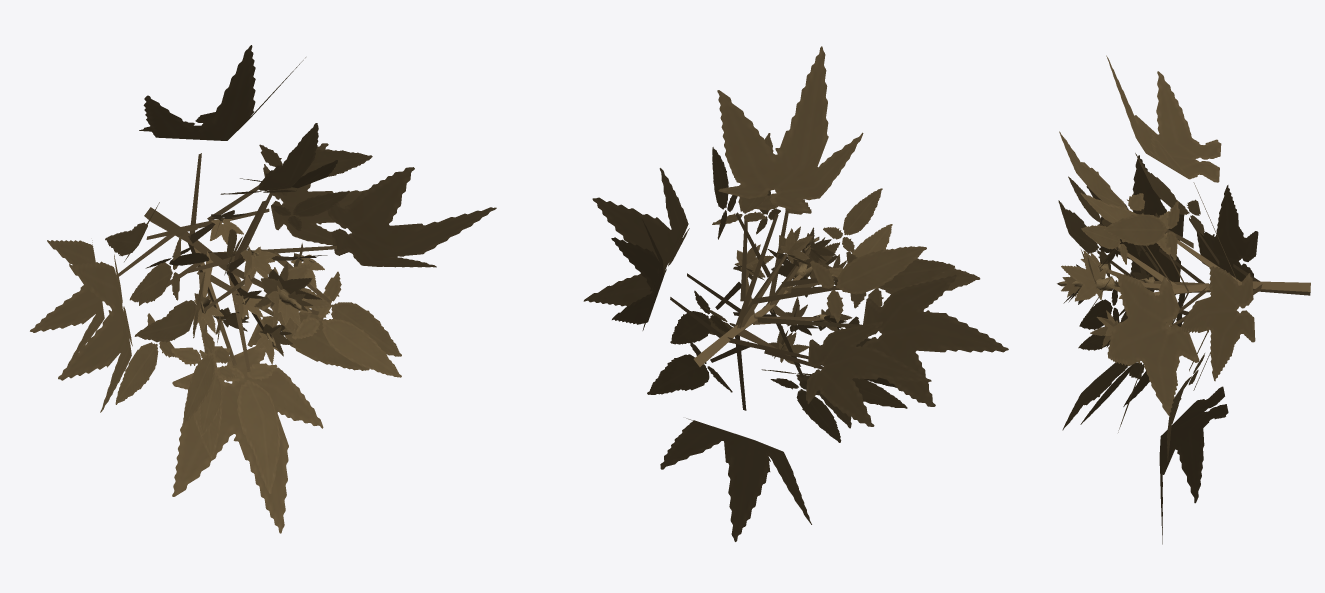
Rendered from p_auto_preflower_c3_cards.obj.
3 renders of one model, left to right at view 1: azimuth 30°, elevation 25°; view 2: azimuth 150°, elevation 25°; view 3: azimuth 270°, elevation 25°, orthographic. The views are drawn at different scales.
Size of the model in its own units: 1.39 by 1.49 by 0.706.
1 material, 1 textured.
